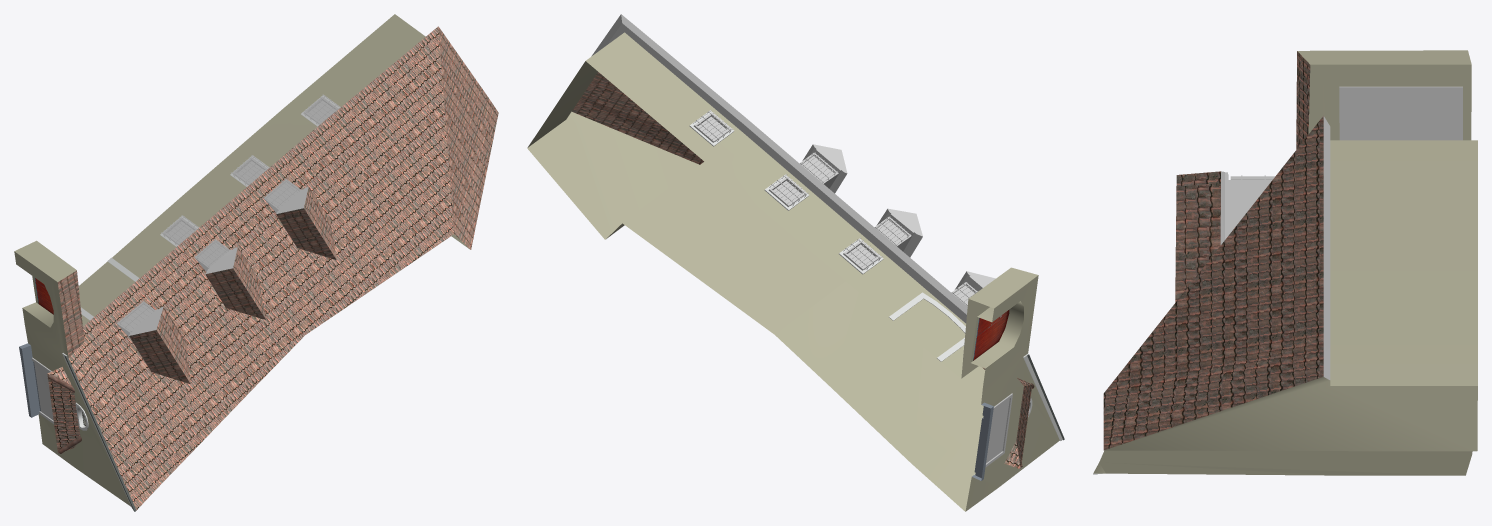
File: Nunne_10.obj
3 renders of one model, left to right at view 1: azimuth 30°, elevation 25°; view 2: azimuth 150°, elevation 25°; view 3: azimuth 270°, elevation 25°, orthographic. The views are drawn at different scales.
Visible parts, largest first — view 1: Nunne_10; view 2: Nunne_10; view 3: Nunne_10.
Part boxes in pixels (left/top/right/bottom): Nunne_10: left=14, top=14, right=498, bottom=511; Nunne_10: left=527, top=14, right=1064, bottom=511; Nunne_10: left=1093, top=50, right=1477, bottom=475.
Bounding box in the file's own units: 22.24 × 16.8 × 8.23.
